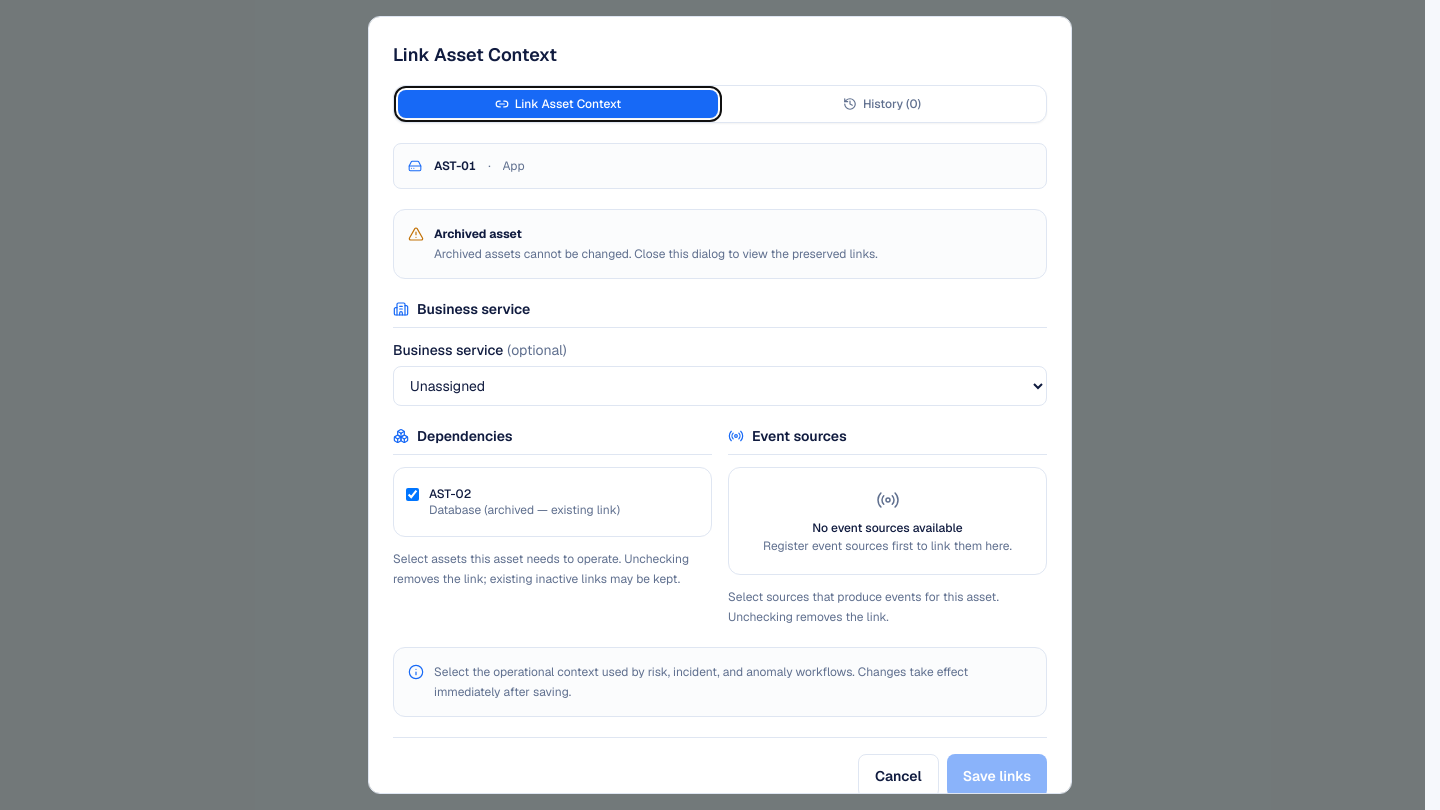
Scenario: LinkAssetContextDialog existing links › keeps history readable when the asset is archived
The width and height of the screenshot is (1440, 810).
expect the button "Save links" is disabled: met, box [947,754,1047,794]
Click the tab "History (0)" at (882, 104), box [722,90,1042,118]
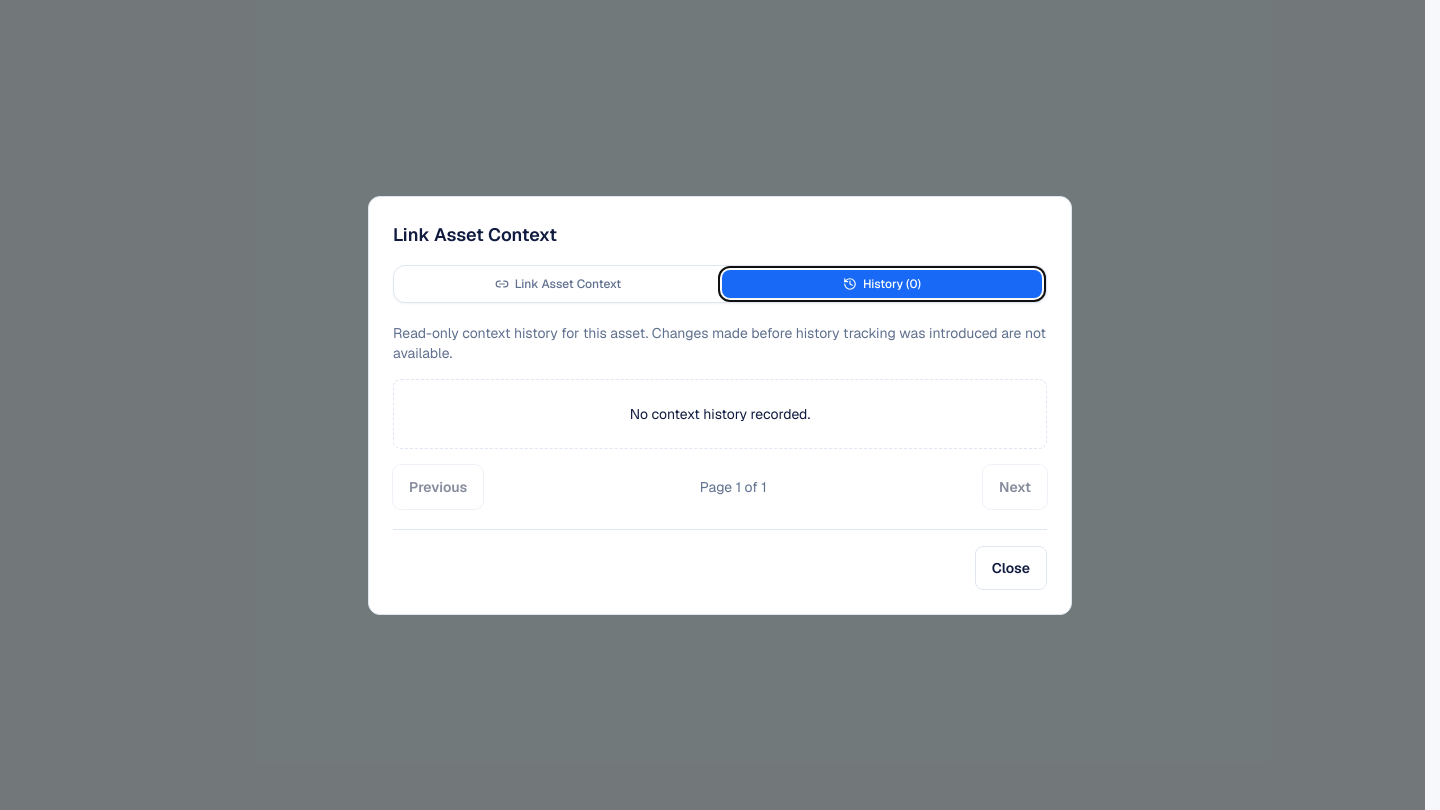
expect the text "No context history recorded." is shown: met, box [393,378,1047,448]
